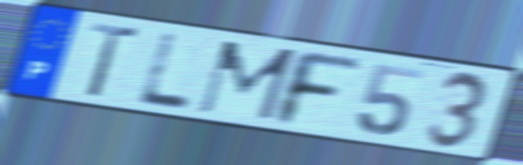3: (422, 69, 491, 152)
5: (355, 61, 427, 138)
F: (273, 46, 364, 129)
L: (133, 30, 194, 113)
M: (193, 38, 301, 124)
T: (84, 20, 145, 101)
